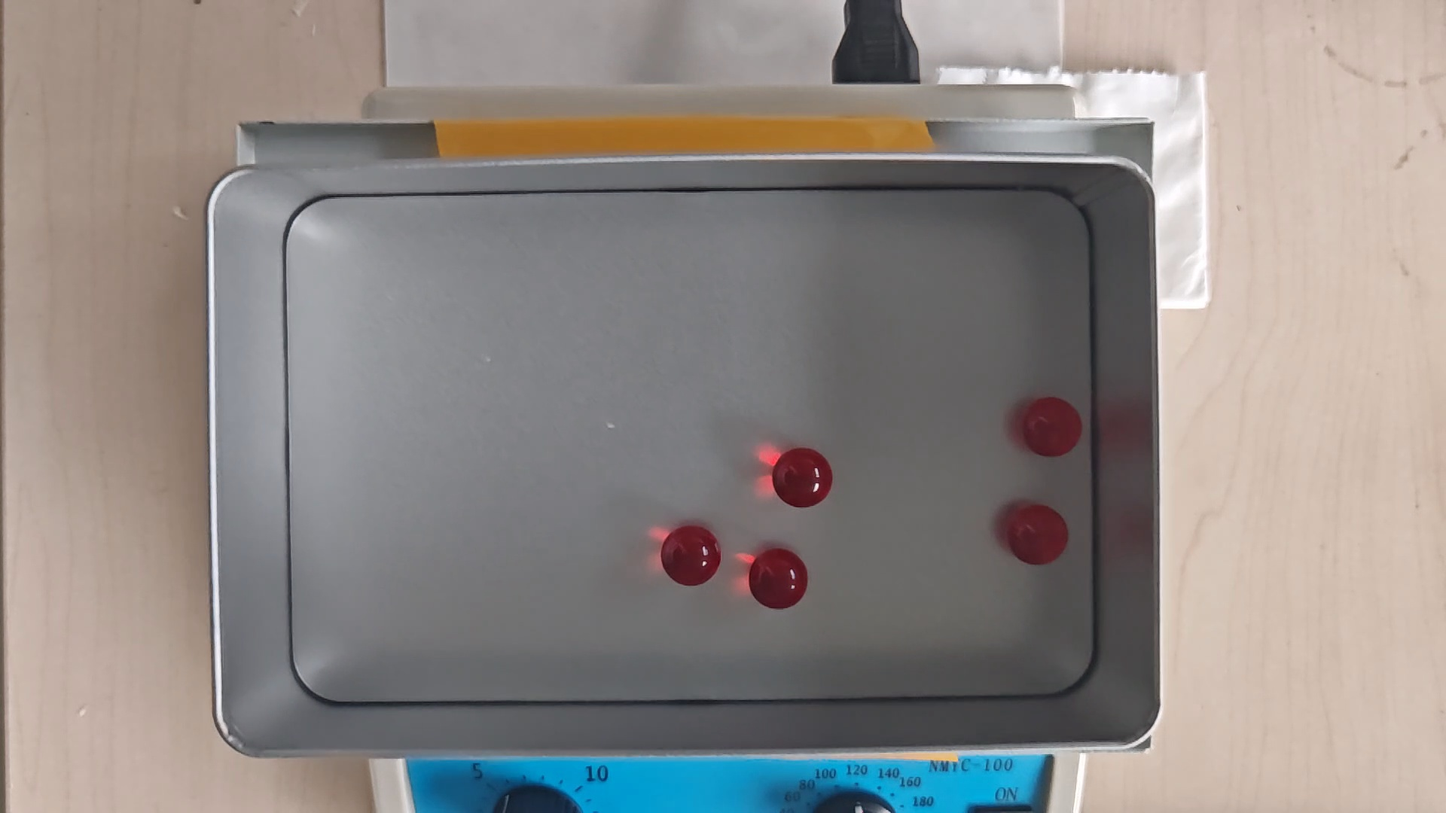ball: (1009, 504, 1067, 567), (772, 447, 832, 507), (662, 525, 720, 587), (750, 550, 808, 610), (1024, 398, 1082, 458)
container: (288, 189, 1094, 702)
